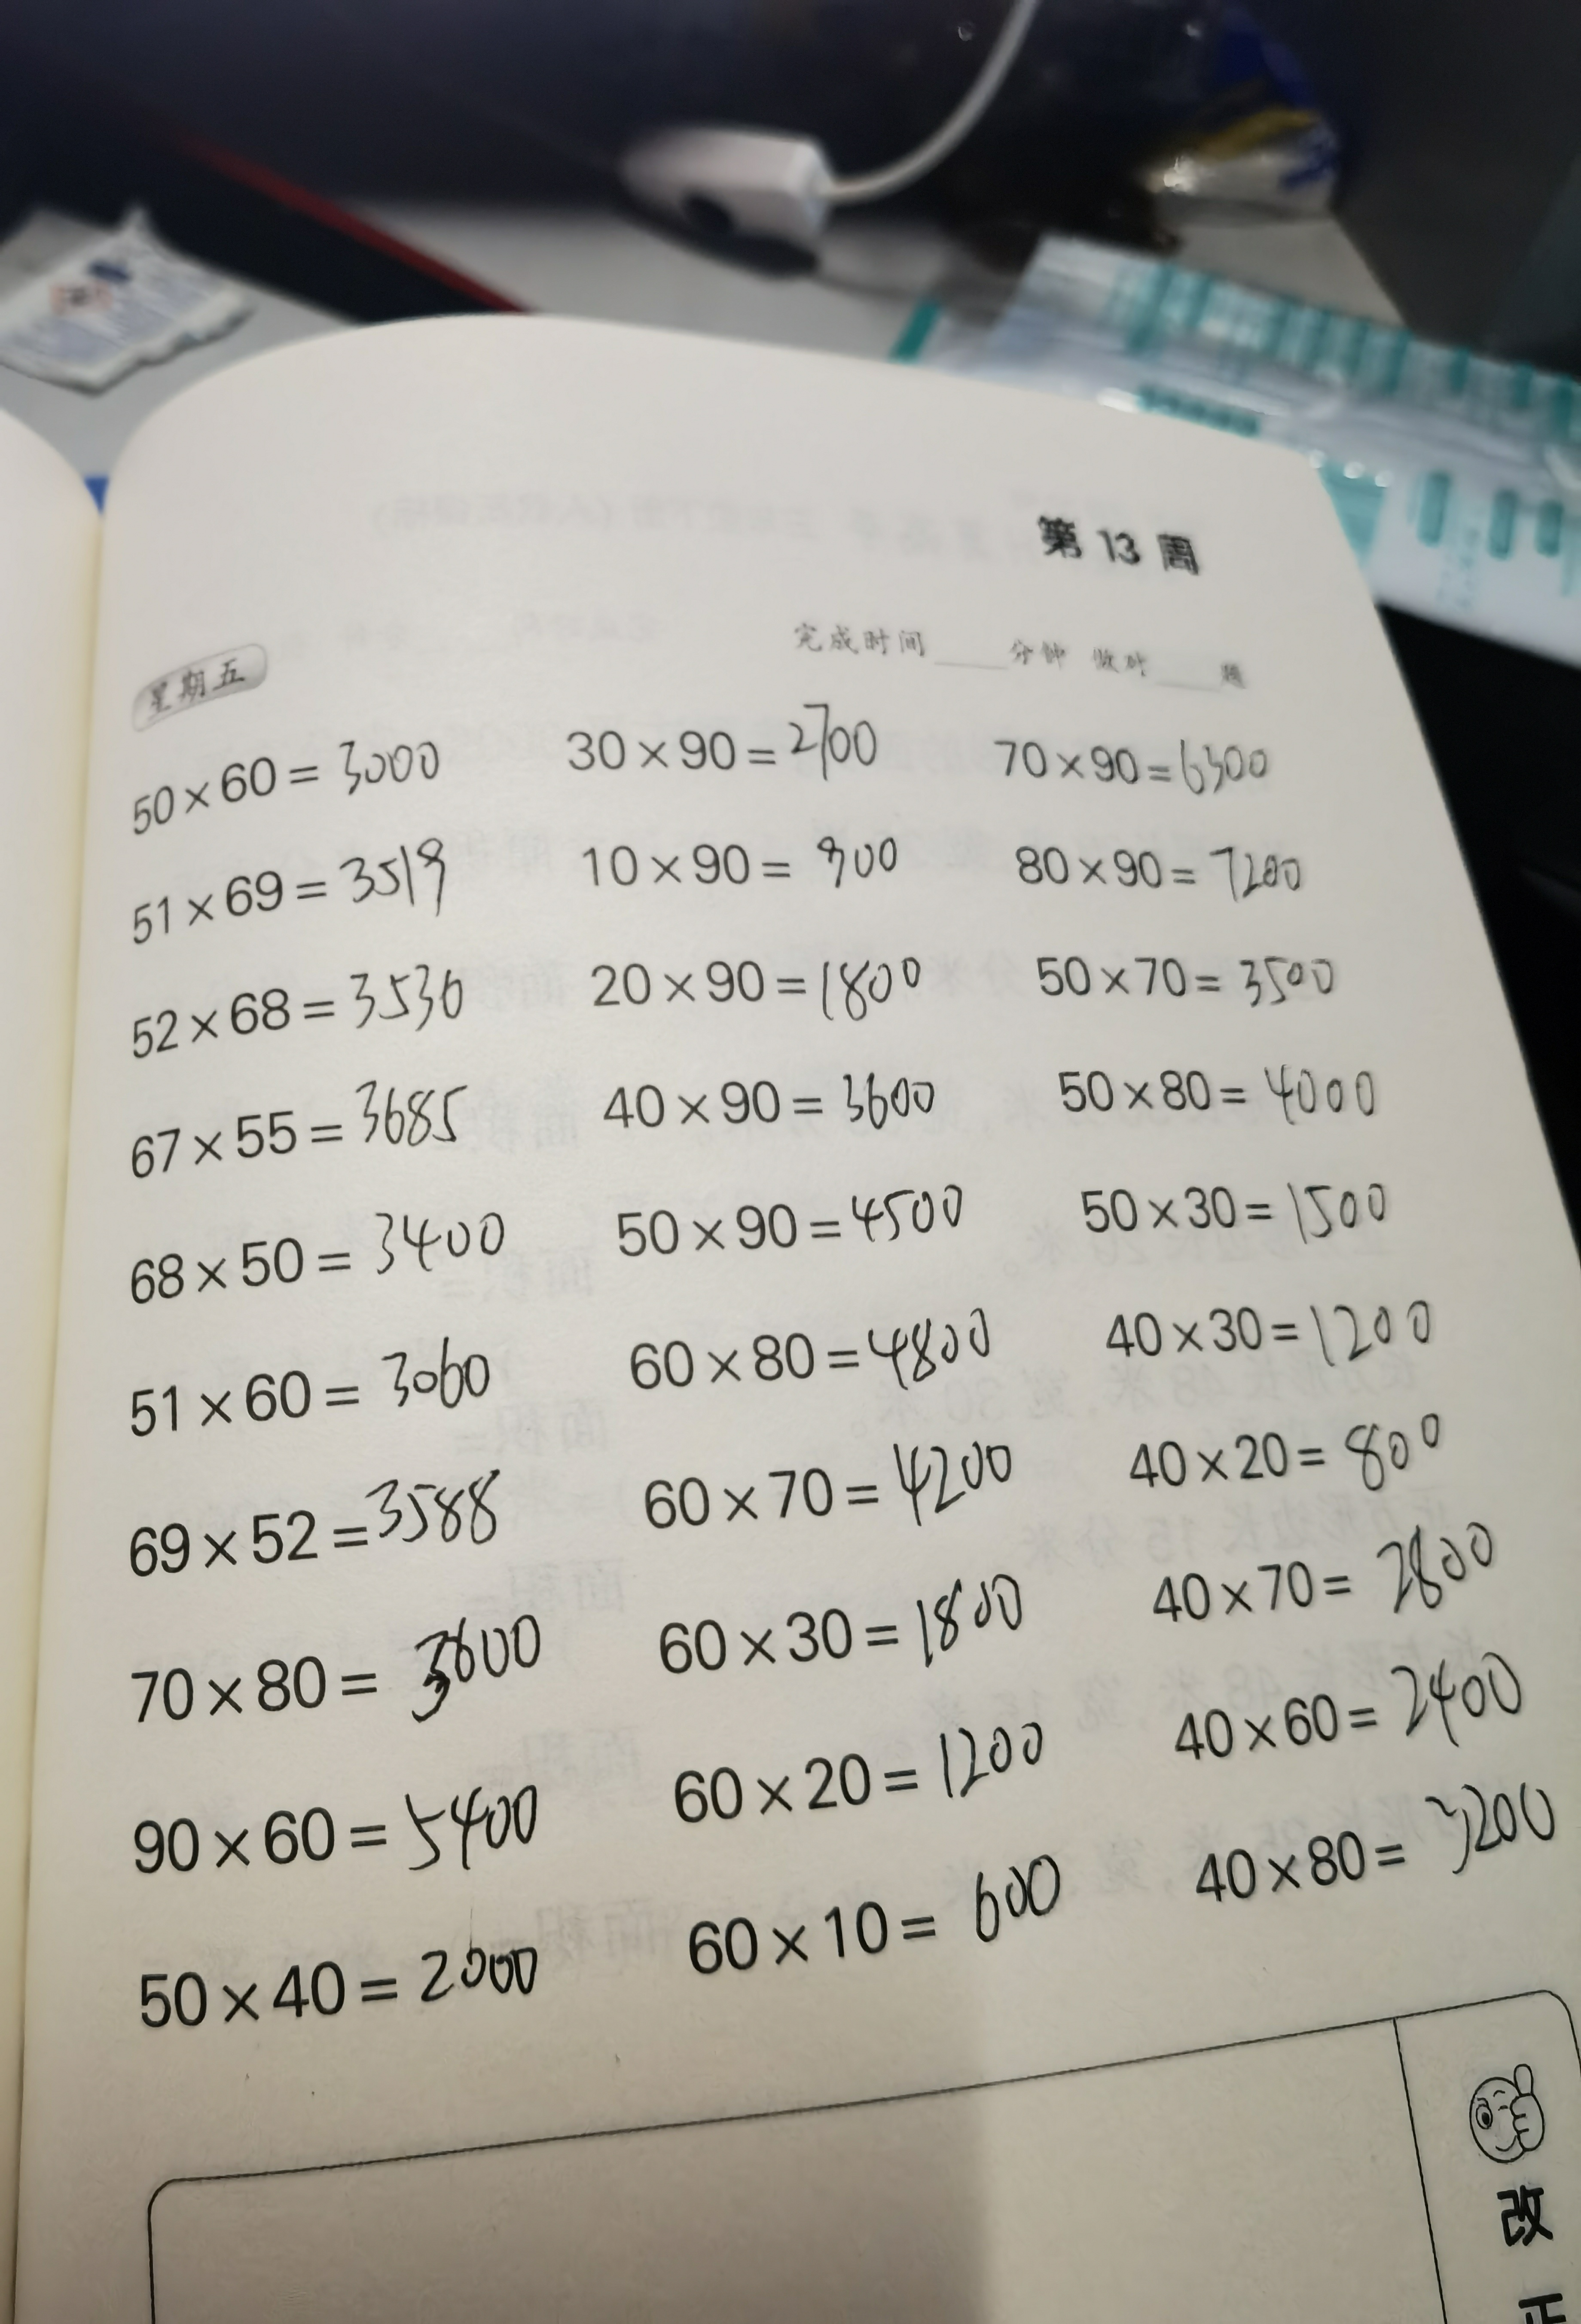equation: (79, 1922, 572, 2047), (79, 1599, 528, 1733), (635, 1849, 1090, 1975), (104, 1770, 570, 1892), (642, 1719, 1082, 1848), (1161, 1768, 1576, 1900), (641, 1553, 1083, 1675), (111, 1186, 535, 1309), (531, 663, 895, 805), (86, 715, 485, 838), (1135, 1643, 1556, 1759), (94, 1473, 547, 1581), (85, 949, 498, 1064), (101, 1078, 503, 1195), (605, 1290, 1032, 1392), (582, 1046, 979, 1154), (1136, 1518, 1519, 1627), (108, 833, 503, 933), (626, 1435, 1048, 1526), (972, 708, 1330, 813), (1110, 1398, 1479, 1498), (113, 1338, 524, 1428), (582, 932, 956, 1031), (596, 1165, 997, 1256), (1038, 1161, 1427, 1255), (563, 810, 935, 905), (1075, 1286, 1457, 1376), (1025, 925, 1380, 1022), (1043, 1045, 1408, 1131), (993, 824, 1355, 911)
